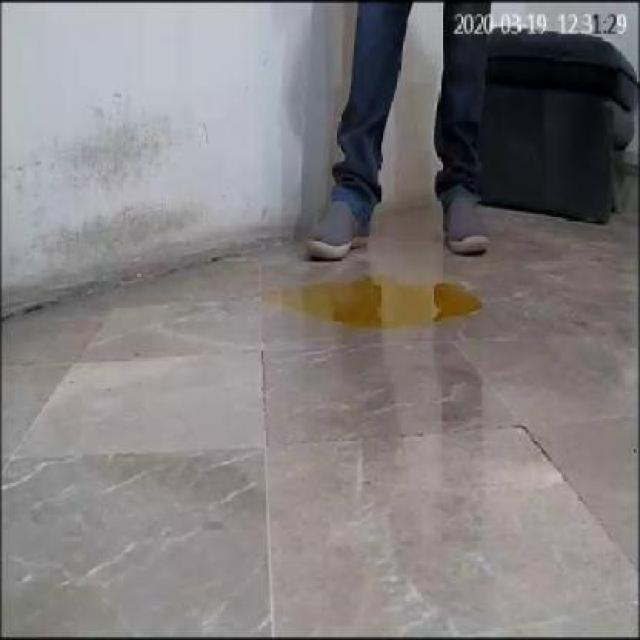spillage: (295, 279, 483, 330)
